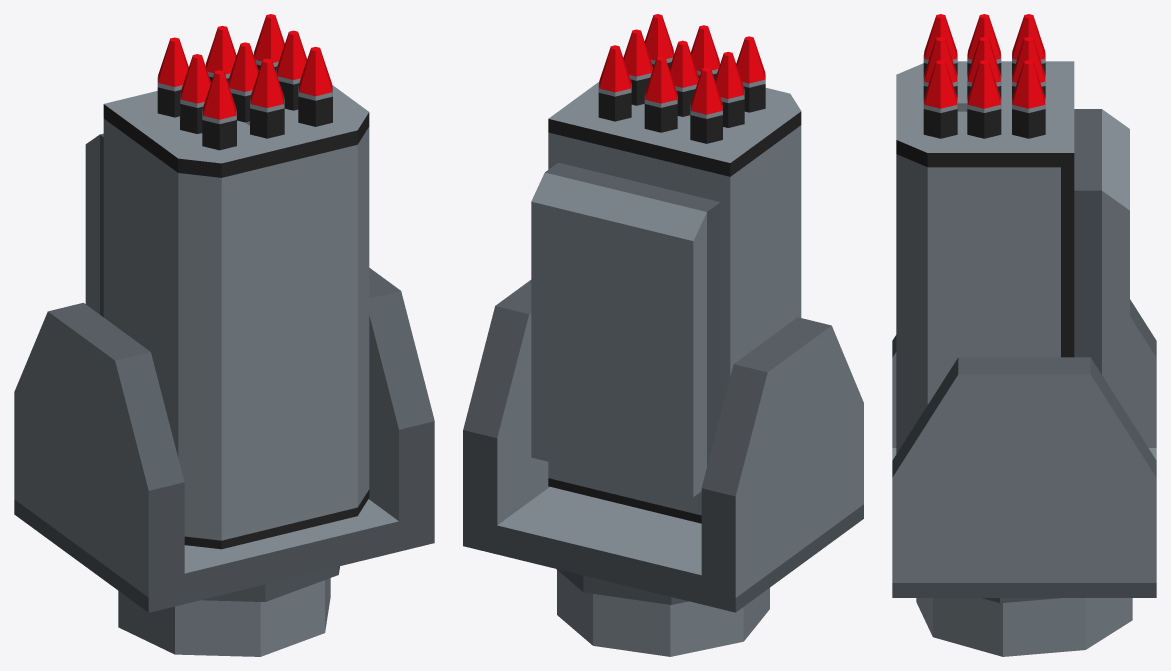
File: RocketLancher.fbx
3 views of the same model, side by side, from view 1: azimuth 30°, elevation 25°; view 2: azimuth 150°, elevation 25°; view 3: azimuth 270°, elevation 25° (orthographic). The views are drawn at different scales.
Parts seen in each view (by area): view 1: Cube.009, Cube.008, Cylinder.028, Cube.010, Cube.021, Cube.011, Cube.018, Cube.023, Cube.022, Cube.016, Cube.019, Cube.017 (+1 smaller); view 2: Cube.008, Cube.010, Cube.009, Cylinder.028, Cube.017, Cube.020, Cube.023, Cube.022, Cube.021, Cube.016, Cube.019, Cube.011 (+1 smaller); view 3: Cube.008, Cube.009, Cube.010, Cylinder.028, Cube.016, Cube.011, Cube.017, Cube.018, Cube.019, Cube.022, Cube.021, Cube.020 (+1 smaller).
Part boxes in pixels (<box>): Cube.009: <box>103,85,369,549</box>; Cube.008: <box>14,268,434,612</box>; Cylinder.028: <box>118,566,339,656</box>; Cube.010: <box>85,133,103,316</box>; Cube.021: <box>202,70,236,150</box>; Cube.011: <box>298,46,332,126</box>; Cube.018: <box>250,58,284,138</box>; Cube.023: <box>157,37,188,117</box>; Cube.022: <box>180,54,210,133</box>; Cube.016: <box>276,30,307,110</box>; Cube.019: <box>228,42,258,122</box>; Cube.017: <box>253,14,284,72</box>; Cube.008: <box>463,280,863,612</box>; Cube.010: <box>531,162,720,496</box>; Cube.009: <box>548,82,801,523</box>; Cylinder.028: <box>556,569,769,656</box>; Cube.017: <box>598,45,631,121</box>; Cube.020: <box>644,56,677,132</box>; Cube.023: <box>690,67,722,143</box>; Cube.022: <box>715,52,744,127</box>; Cube.021: <box>736,36,765,112</box>; Cube.016: <box>623,29,652,105</box>; Cube.019: <box>669,40,698,116</box>; Cube.011: <box>644,14,674,68</box>; Cube.008: <box>892,299,1156,597</box>; Cube.009: <box>896,61,1074,453</box>; Cube.010: <box>1074,109,1129,418</box>; Cylinder.028: <box>916,598,1132,656</box>; Cube.016: <box>967,60,1001,138</box>; Cube.011: <box>923,60,957,138</box>; Cube.017: <box>1012,60,1045,138</box>; Cube.018: <box>923,37,957,100</box>; Cube.019: <box>967,37,1001,99</box>; Cube.022: <box>967,14,1001,76</box>; Cube.021: <box>923,14,957,77</box>; Cube.020: <box>1012,37,1045,98</box>.
Size of the model in its own units: 147 by 287 by 120.
